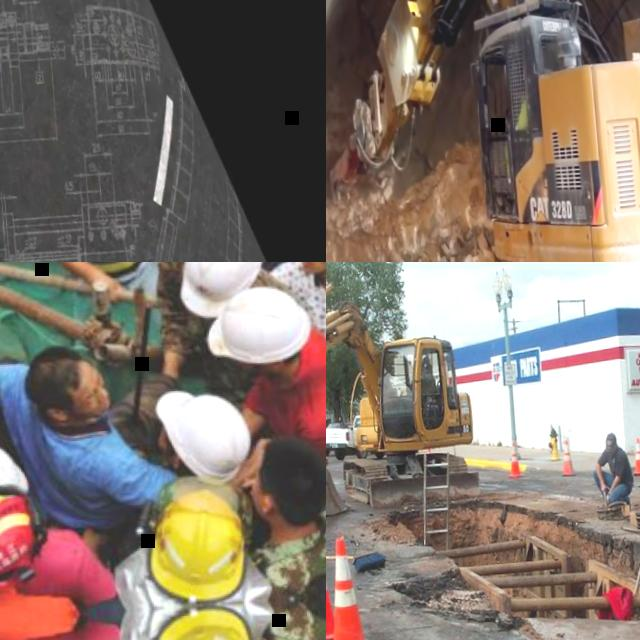Hardhat: (129, 484, 257, 614), (146, 372, 256, 494), (200, 284, 313, 368), (174, 262, 274, 324), (262, 262, 326, 339), (151, 607, 254, 640), (0, 492, 37, 582), (0, 434, 30, 512)
NO-Hardhat: (256, 438, 326, 517), (20, 342, 84, 404), (605, 431, 616, 445)
NO-Mask: (88, 392, 113, 421), (249, 487, 268, 514)
NO-Safety Vest: (6, 394, 118, 535), (245, 362, 326, 478), (7, 536, 87, 608), (266, 524, 326, 612), (166, 266, 215, 362), (289, 267, 326, 344), (264, 603, 326, 640), (604, 450, 627, 485)
Person: (0, 326, 173, 544), (200, 280, 326, 490), (149, 262, 290, 399), (239, 434, 326, 608), (0, 488, 118, 612), (147, 370, 256, 496), (45, 262, 187, 305), (499, 73, 533, 180), (247, 595, 326, 640), (590, 428, 634, 508)
Safety Cone: (326, 533, 373, 640), (558, 436, 576, 477), (504, 440, 522, 478), (630, 463, 640, 530), (628, 437, 640, 476)
Safety Vest: (514, 94, 529, 130)
vehicle: (326, 0, 640, 262), (326, 272, 480, 519), (326, 415, 365, 459), (326, 421, 346, 456)
